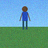person: (20, 6, 30, 29)
